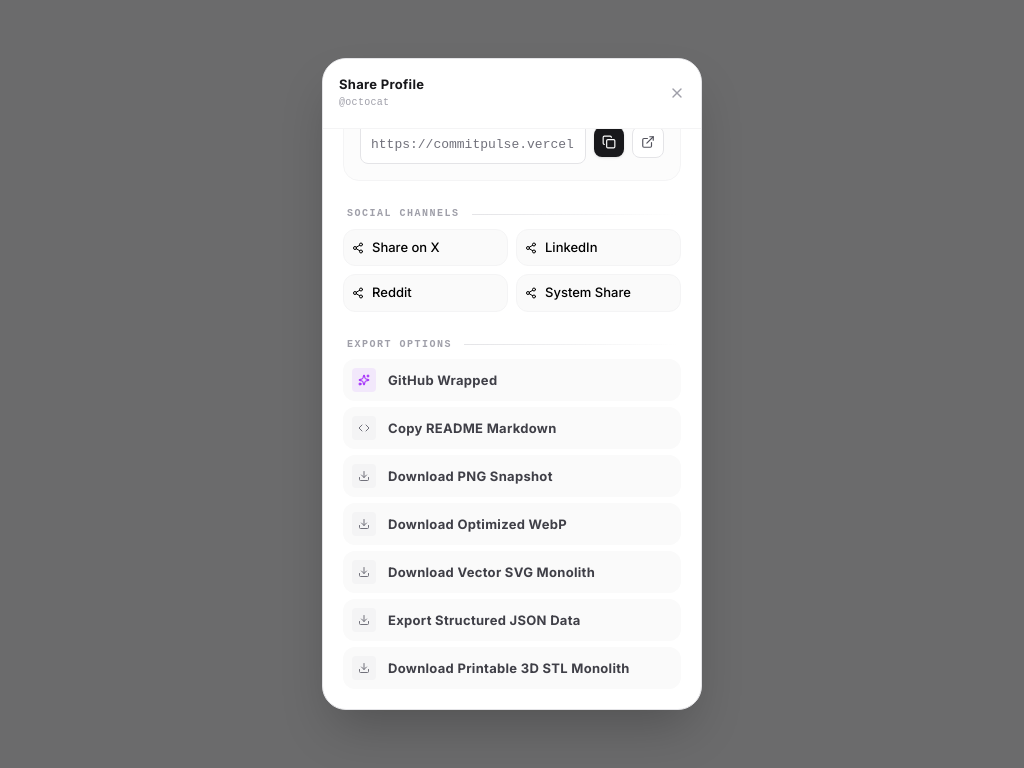
ShareSheet › handles Download Printable 3D STL Monolith action
The image size is (1024, 768).
(page scrolled)
Click the button "Download Printable 3D STL Monolith": click(512, 668) [343,647,681,689]
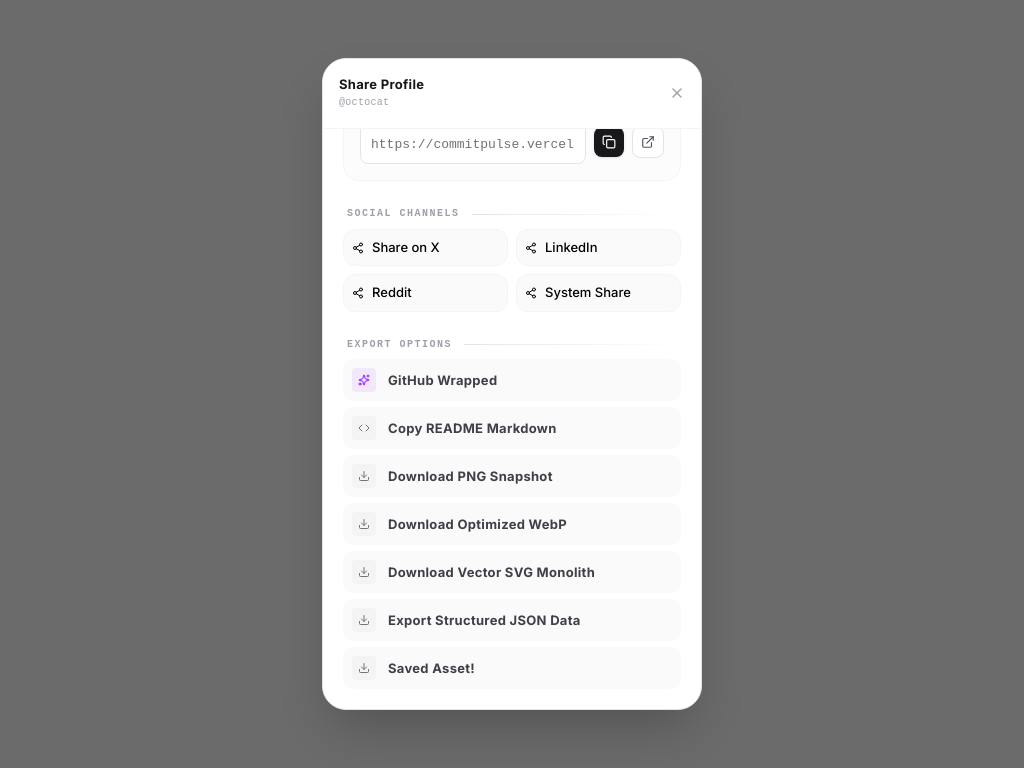
Result: the text "Saved Asset!" is shown at [388,659,475,678]
